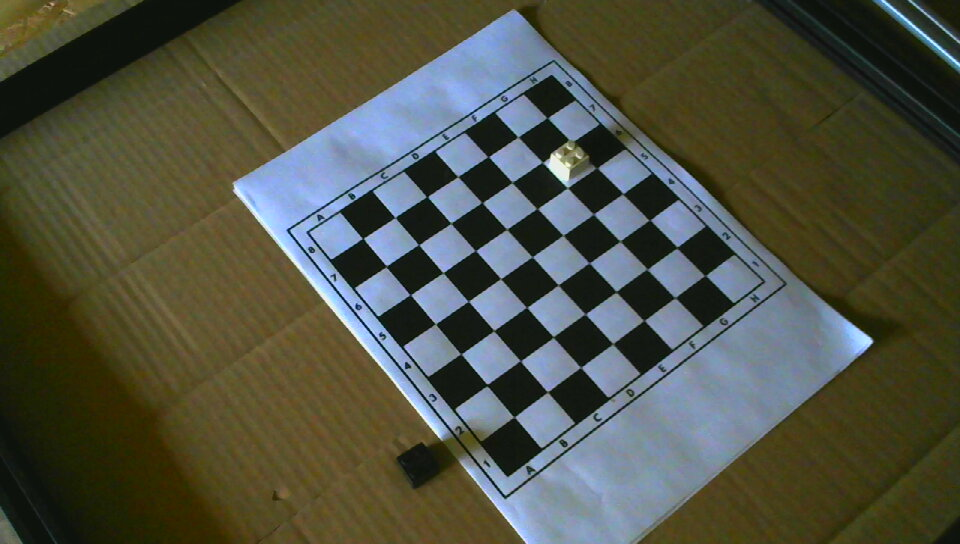bp: (397, 441, 439, 487)
wp: (548, 138, 592, 182)
